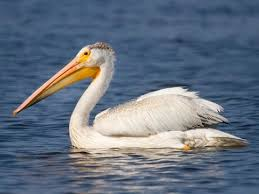pelican: (12, 41, 251, 152)
